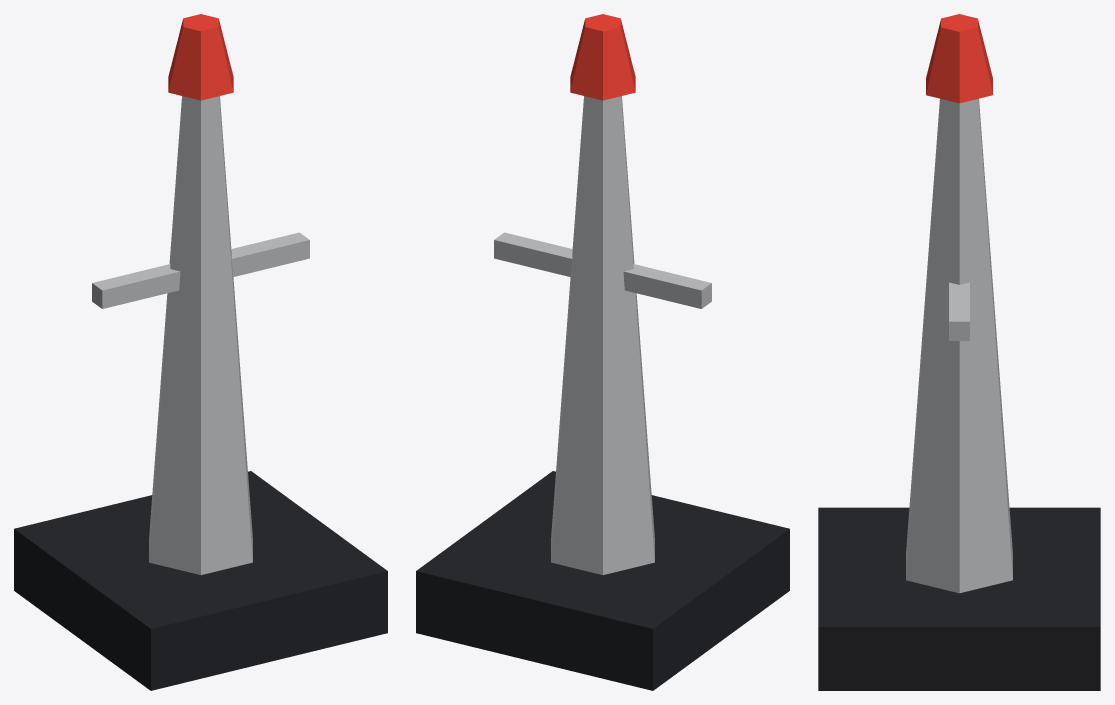
The model's file is station_antenna.glb.
3 views of the same model, side by side, from view 1: azimuth 30°, elevation 25°; view 2: azimuth 150°, elevation 25°; view 3: azimuth 270°, elevation 25° (orthographic). The views are drawn at different scales.
Bounding box in the file's own units: 0.16 × 0.38 × 0.16.
